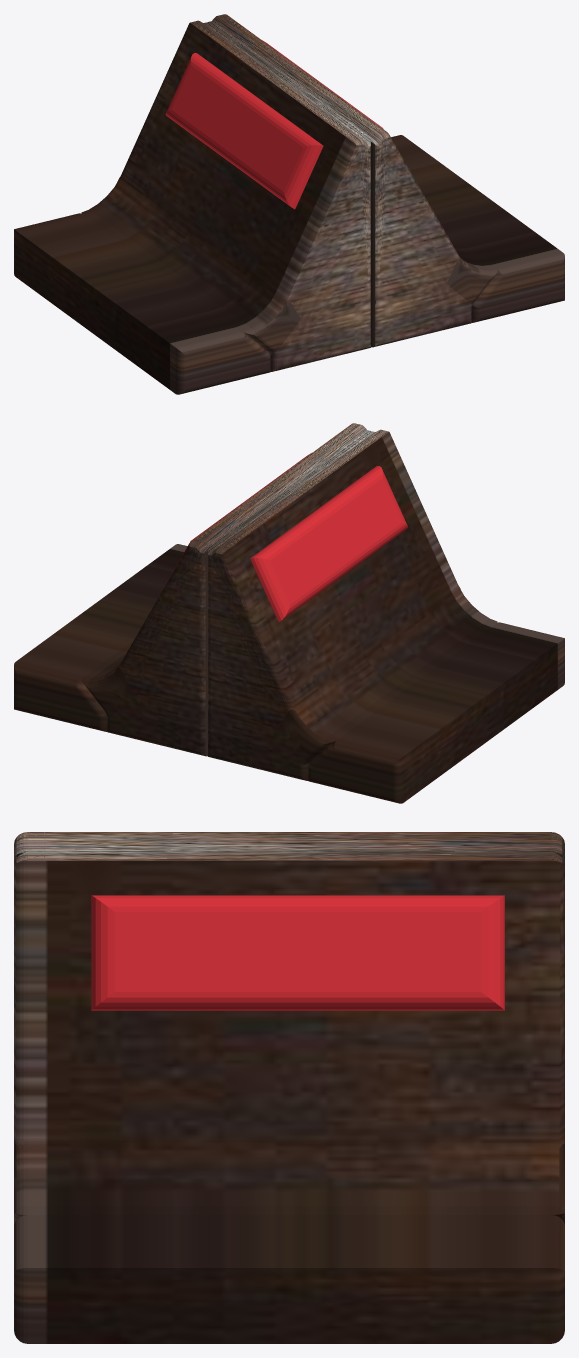
The model's file is Booth.fbx.
3 renders of one model, top to bottom at view 1: azimuth 30°, elevation 25°; view 2: azimuth 150°, elevation 25°; view 3: azimuth 270°, elevation 25°, orthographic. The views are drawn at different scales.
Parts seen in each view (by area): view 1: Cube; view 2: Cube; view 3: Cube.
Part boxes in pixels (x1,y1,x2,y2): Cube: (14,14,564,394); Cube: (14,423,564,803); Cube: (14,832,564,1343).
Bounding box in the file's own units: 0.386 × 0.2 × 0.291.
2 materials, 1 textured.
